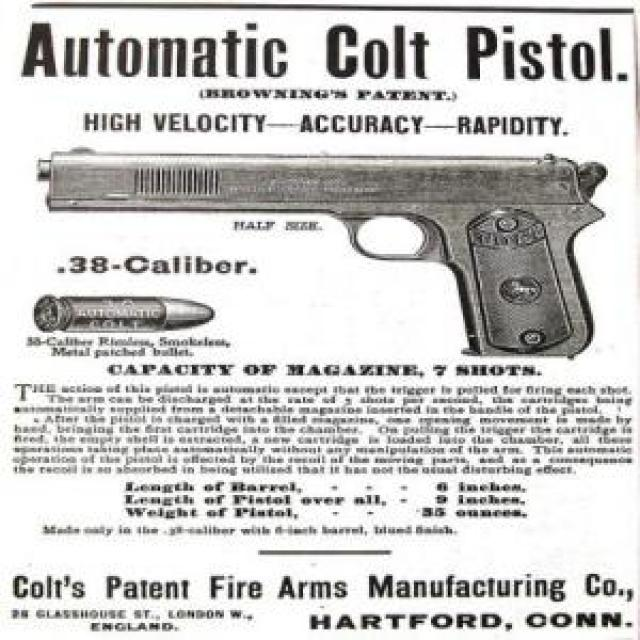pistol: (26, 139, 610, 368)
